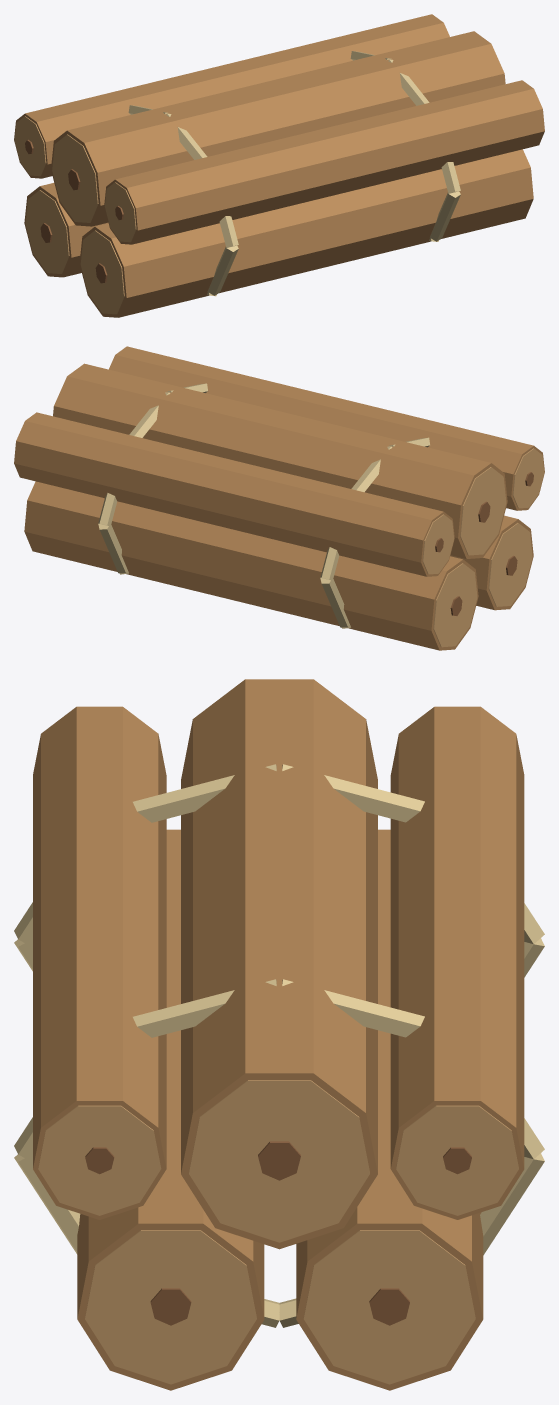
File: lena.glb
The picture shows the model from 3 angles, top to bottom: view 1: azimuth 30°, elevation 25°; view 2: azimuth 150°, elevation 25°; view 3: azimuth 270°, elevation 25°; orthographic projection. The views are drawn at different scales.
Parts seen in each view (by area): view 1: lena; view 2: lena; view 3: lena.
Boxes of the visible parts, <box> form: lena: <box>14,14,544,317</box>; lena: <box>14,346,544,650</box>; lena: <box>14,679,544,1390</box>.
Size of the model in its own units: 0.556 by 0.2246 by 0.3131.
